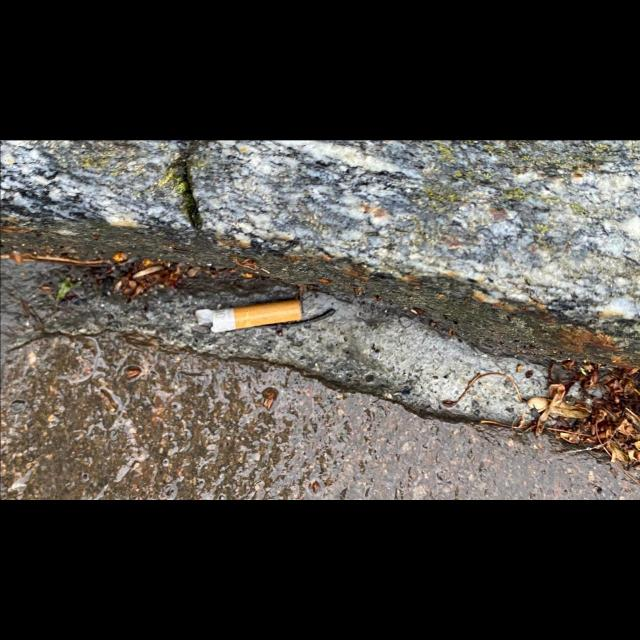cigarette: (194, 298, 303, 333)
